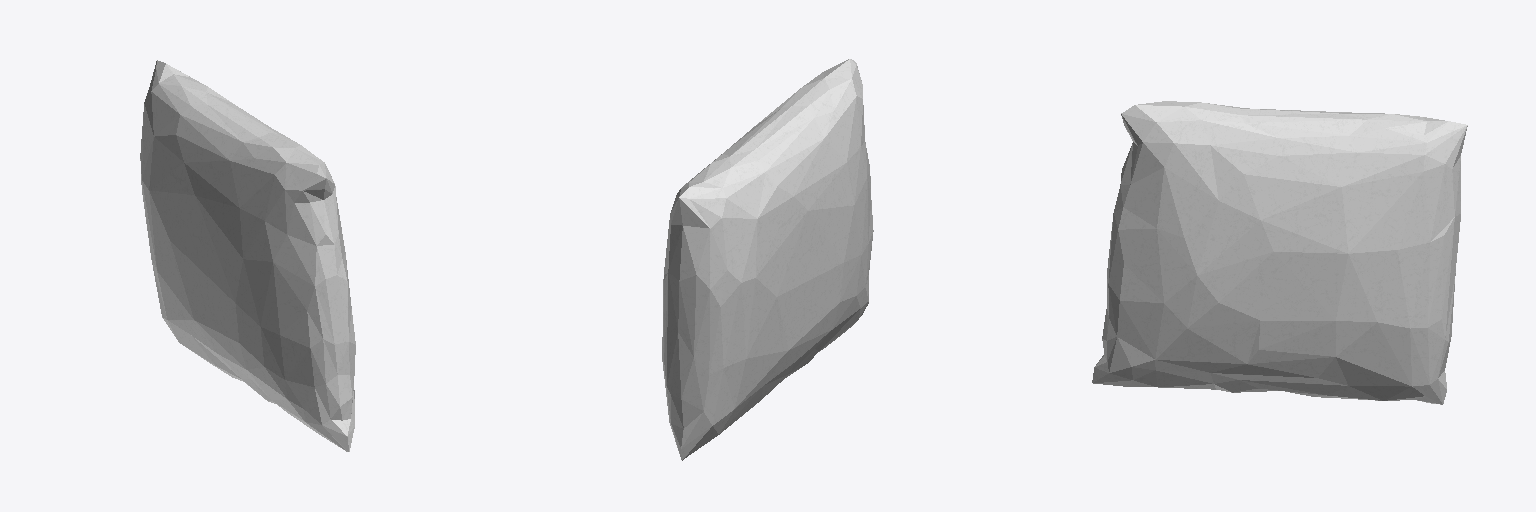
3 views of the same model, side by side, from view 1: azimuth 30°, elevation 25°; view 2: azimuth 150°, elevation 25°; view 3: azimuth 270°, elevation 25° (orthographic).
Visible parts, largest first — view 1: pillow_01; view 2: pillow_01; view 3: pillow_01.
Part boxes in pixels (x1,y1,x2,y2): pillow_01: (140,60,355,451); pillow_01: (662,59,873,460); pillow_01: (1092,101,1467,404).
Bounding box in the file's own units: 0.1781 × 0.4945 × 0.5747.
1 materials, 1 textured.